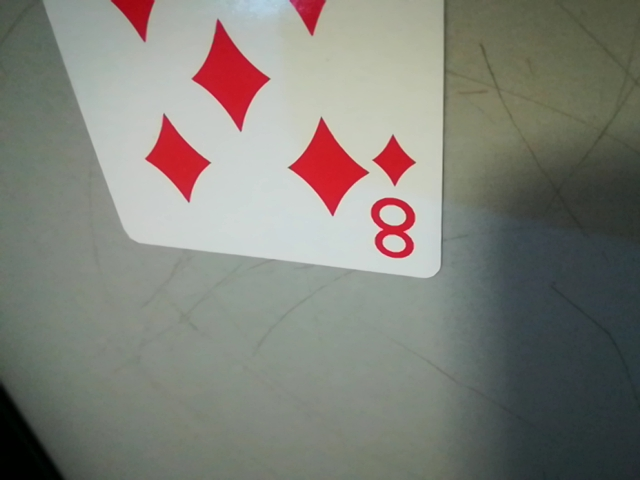fk 8: (360, 125, 434, 270)
